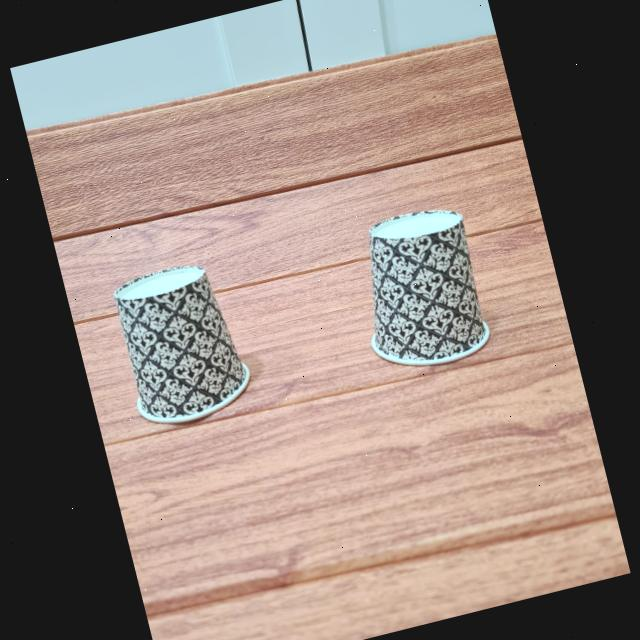trash: (339, 186, 506, 384), (108, 254, 254, 432)
